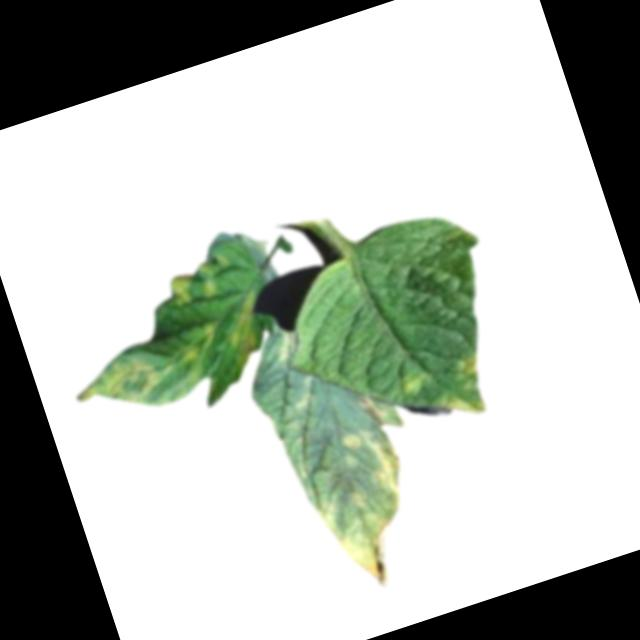Leaf_Mold: (311, 478, 411, 605), (64, 350, 168, 420), (216, 292, 275, 372), (160, 252, 237, 310), (431, 380, 490, 430), (366, 440, 411, 502), (335, 428, 366, 459), (397, 371, 428, 398), (452, 355, 482, 382)
